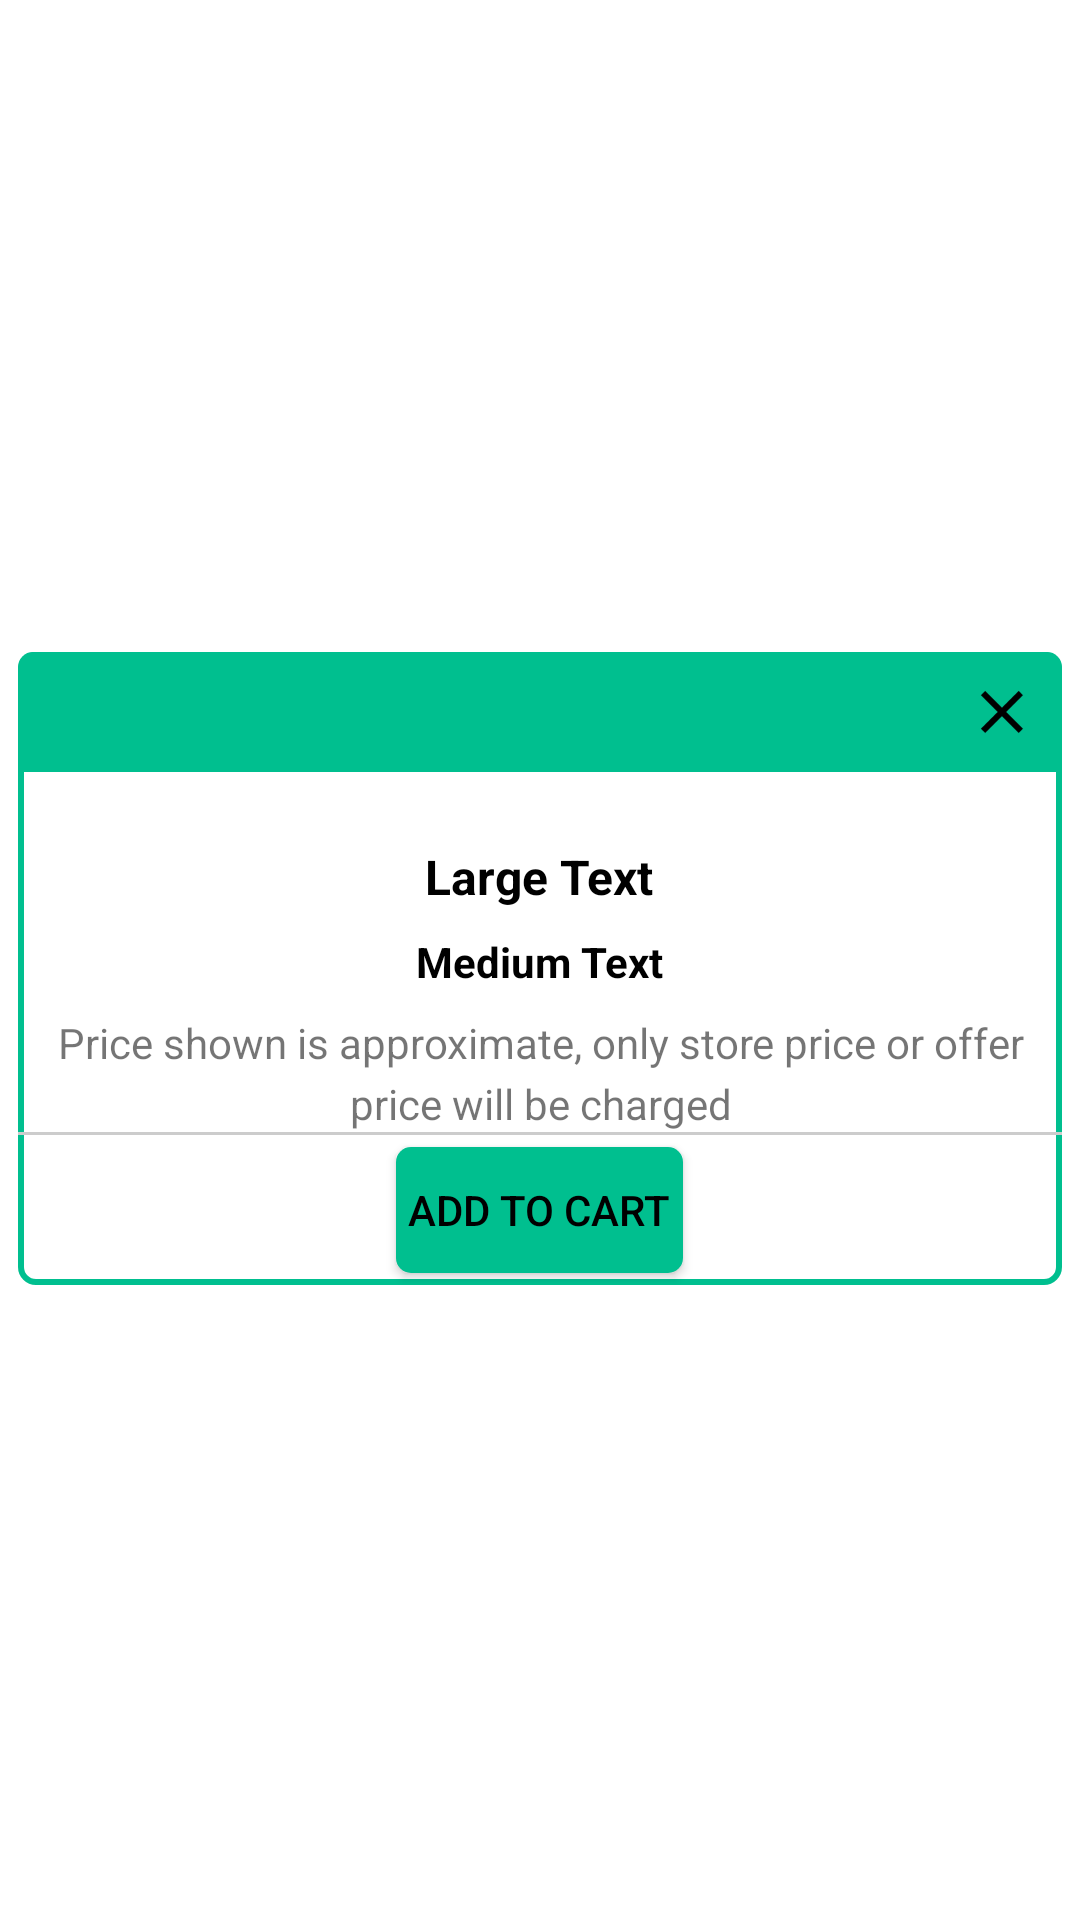

Named icons in this screenshot (1080*1920) and their bounding boxes, (x1, y1, x2, y2):
cancel: (981, 691, 1023, 733)
